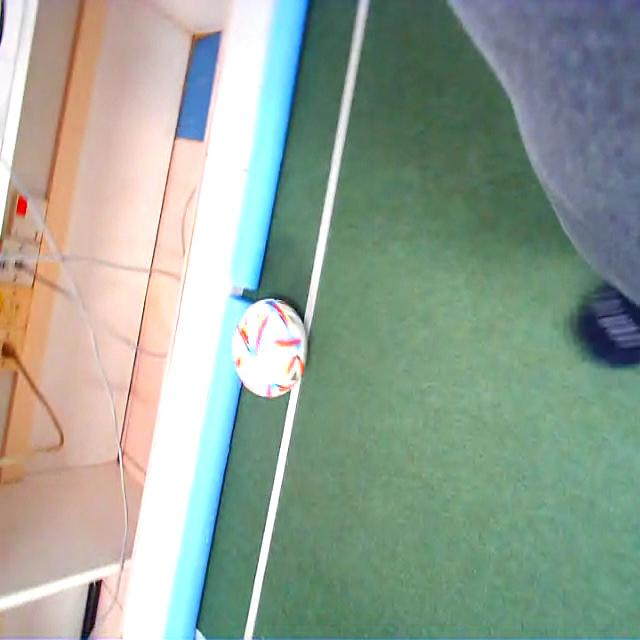ball: (230, 295, 308, 397)
